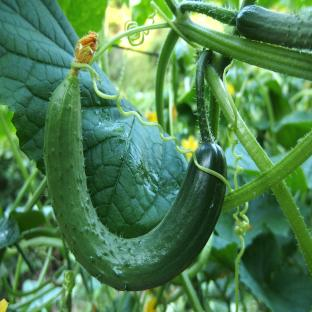Cucumber: (45, 71, 225, 290), (236, 6, 311, 49)
